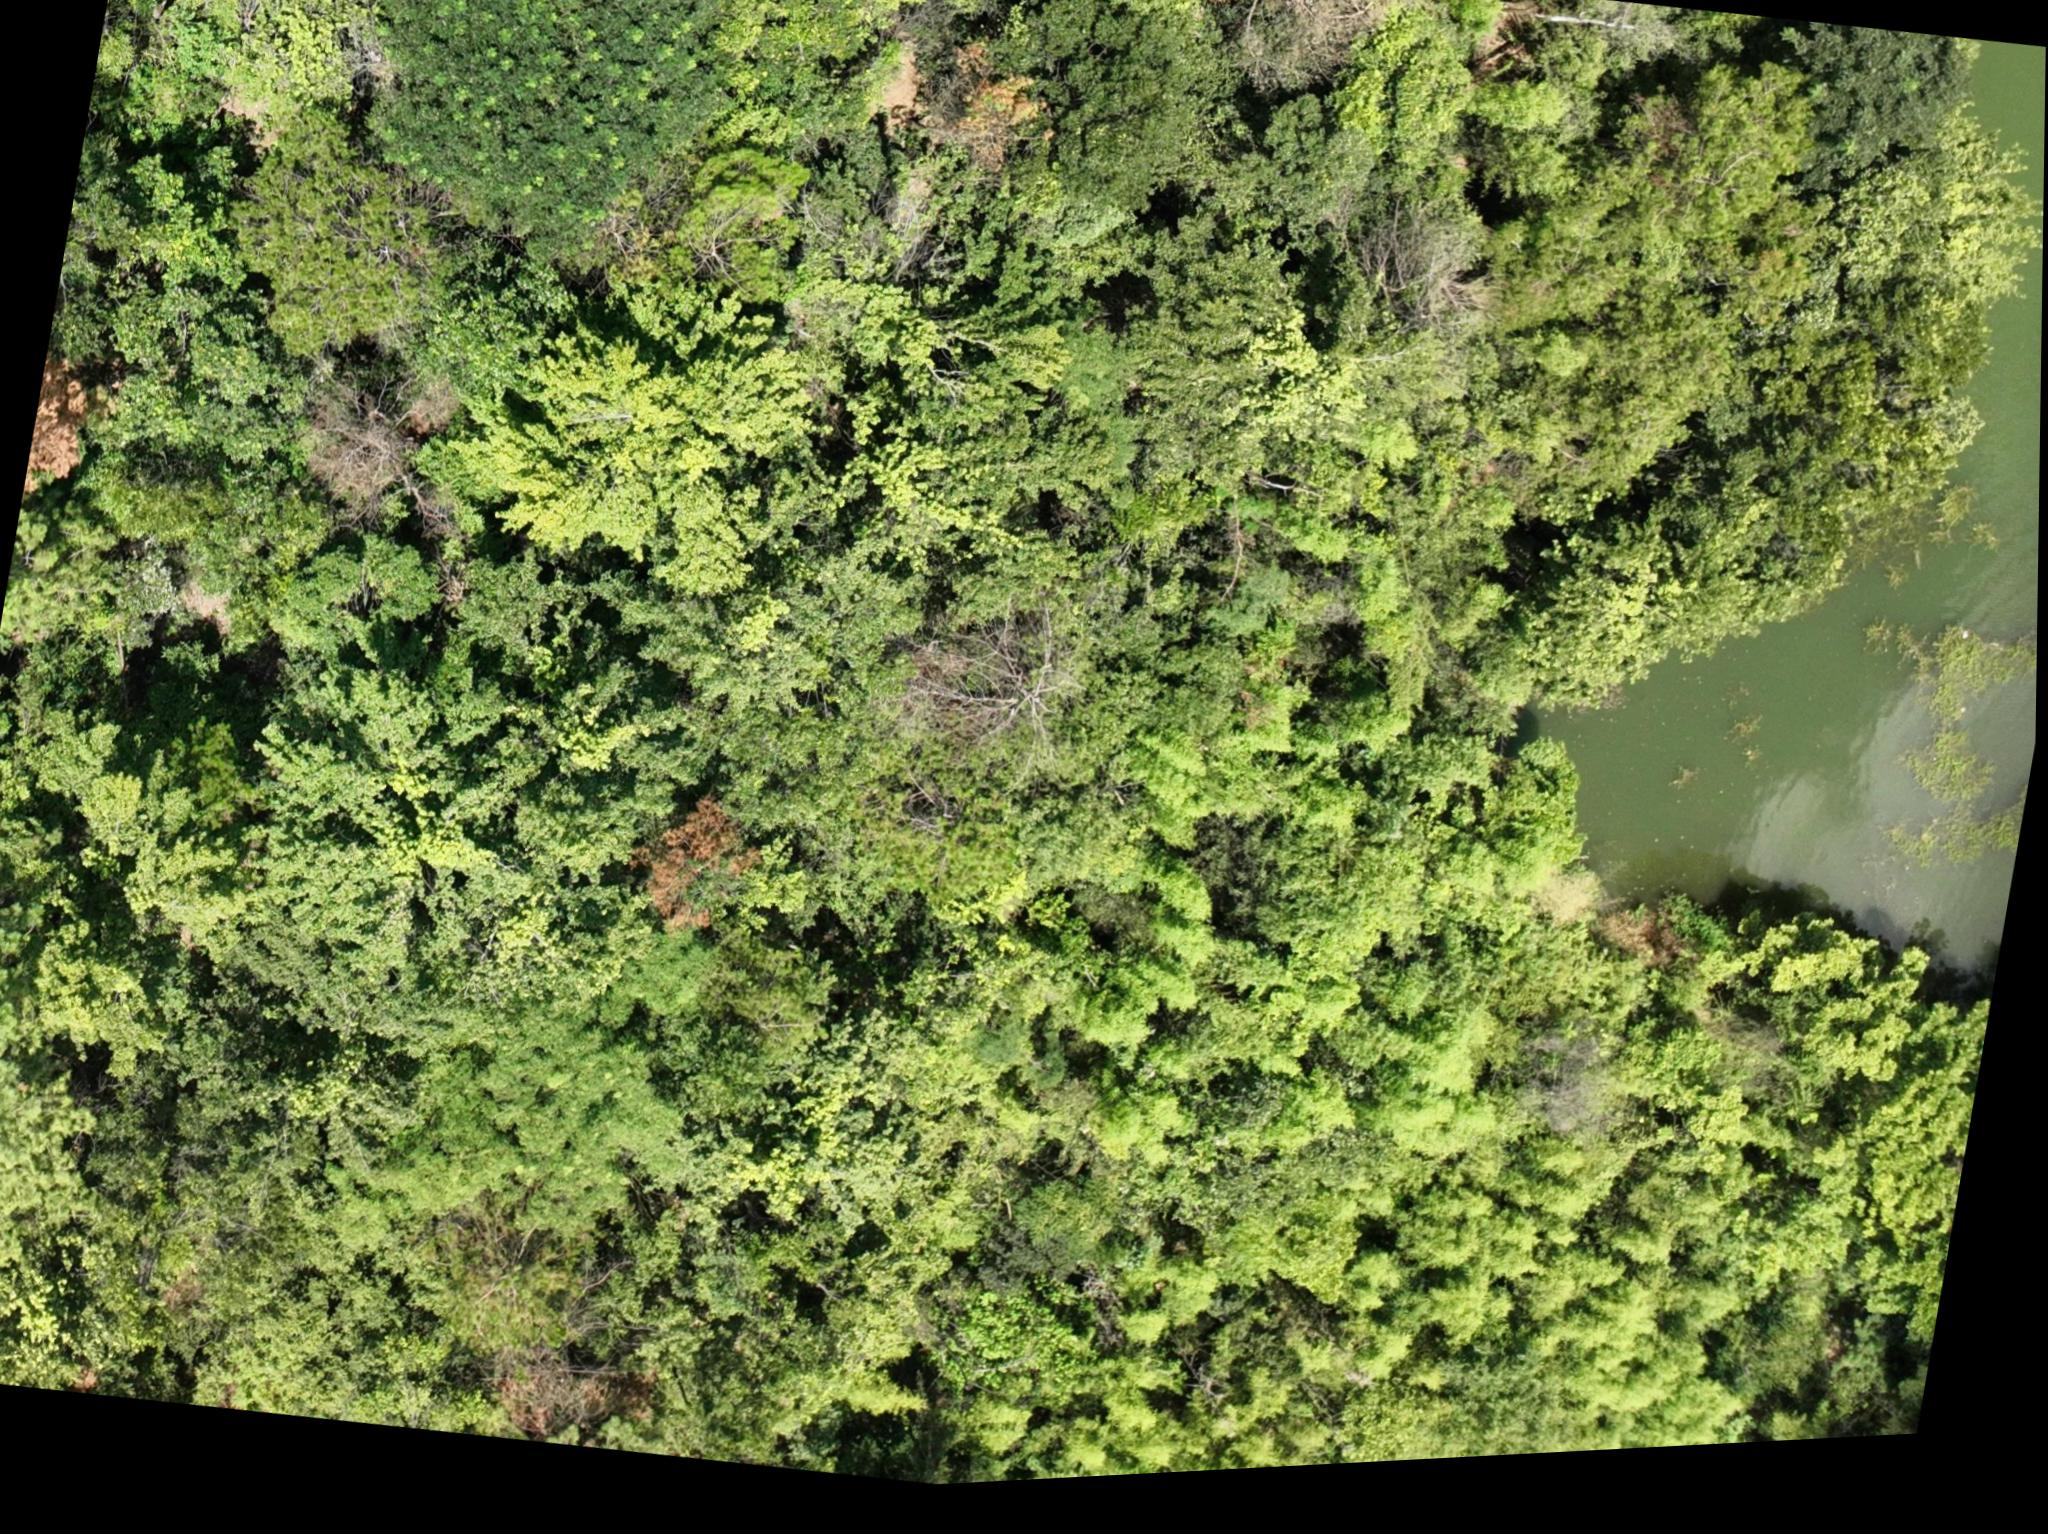dead: (914, 620, 1083, 788), (1349, 235, 1487, 356), (308, 390, 427, 529), (1249, 0, 1381, 103)
heavy: (627, 794, 769, 952), (477, 1350, 659, 1453), (29, 358, 102, 495)
